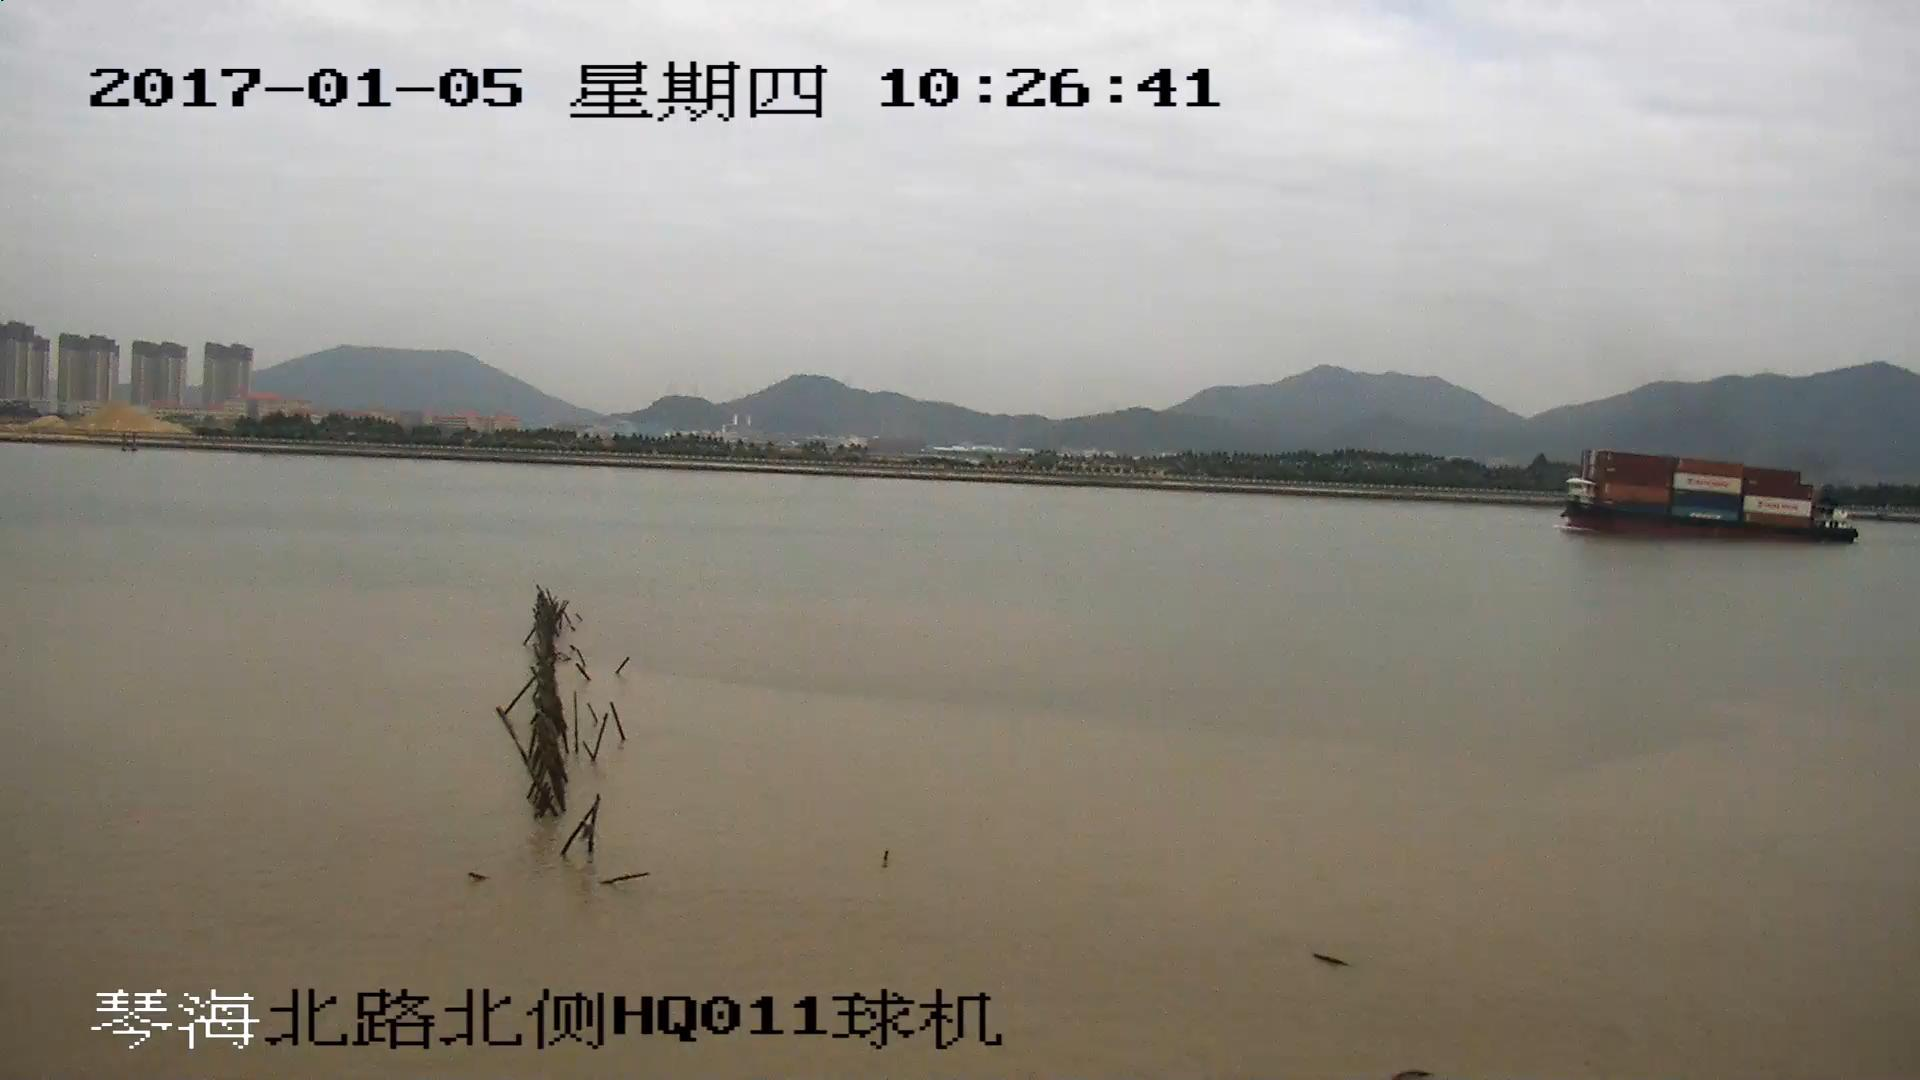Ship: (1565, 454, 1855, 545)
